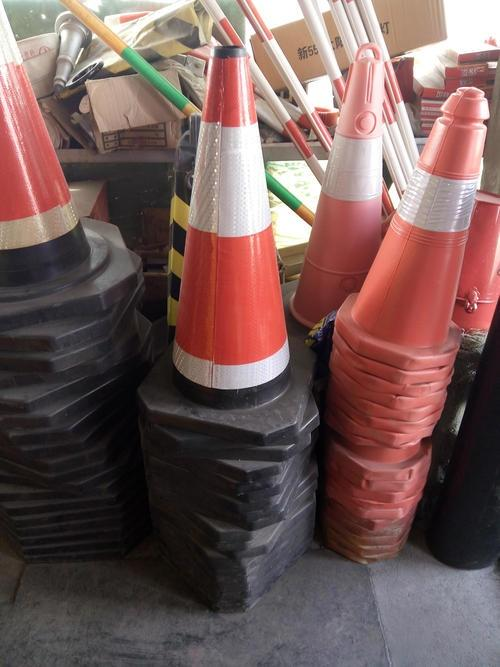cone_barrel: (159, 50, 295, 421), (345, 86, 493, 344), (293, 57, 406, 338)
